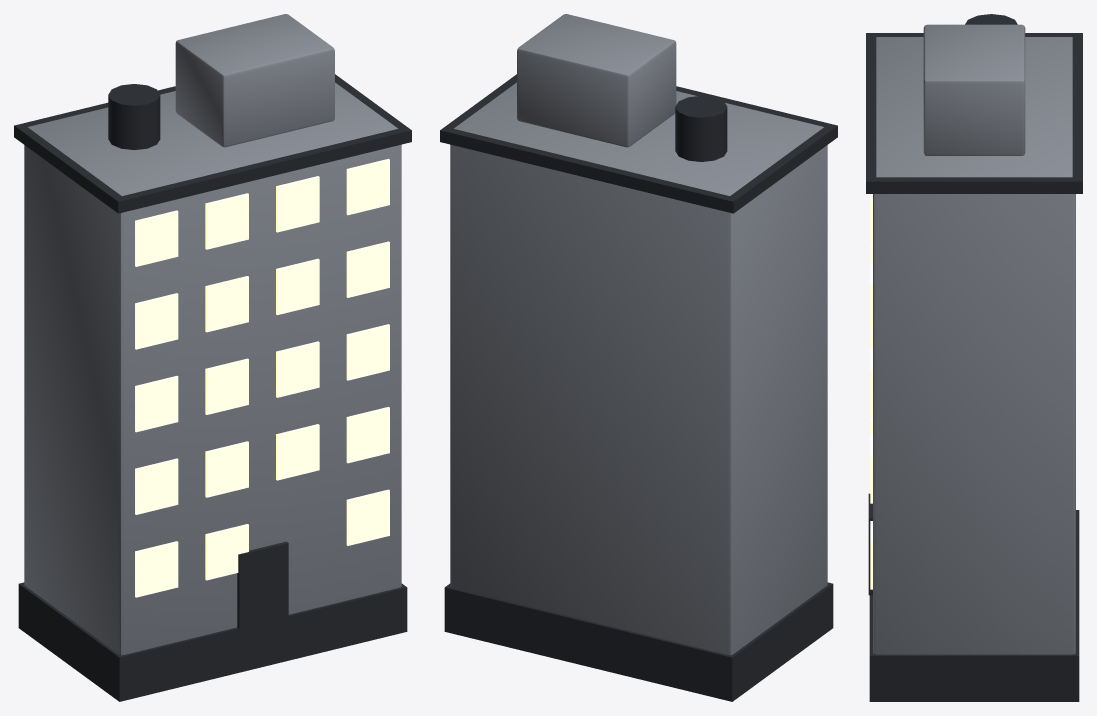
File: predio-20x34.glb
3 renders of one model, left to right at view 1: azimuth 30°, elevation 25°; view 2: azimuth 150°, elevation 25°; view 3: azimuth 270°, elevation 25°, orthographic. The views are drawn at different scales.
Parts seen in each view (by area): view 1: corpo, embasamento, casa-de-maquinas, cornija, porta, caixa-dagua, janela.013, janela.001, janela.002, janela.007, janela.008, janela.009 (+13 smaller); view 2: corpo, embasamento, casa-de-maquinas, cornija, caixa-dagua; view 3: corpo, casa-de-maquinas, embasamento, cornija, caixa-dagua, porta.
Part boxes in pixels (x1,y1,x2,y2): corpo: [24, 82, 401, 655]; embasamento: [18, 582, 407, 701]; casa-de-maquinas: [175, 14, 334, 147]; cornija: [14, 74, 411, 213]; porta: [237, 541, 288, 628]; caixa-dagua: [108, 84, 160, 150]; janela.013: [276, 258, 319, 315]; janela.001: [135, 541, 178, 597]; janela.002: [135, 458, 178, 514]; janela.007: [205, 441, 248, 497]; janela.008: [205, 358, 248, 414]; janela.009: [205, 276, 248, 332]; corpo: [450, 82, 827, 655]; embasamento: [444, 582, 833, 701]; casa-de-maquinas: [517, 14, 676, 147]; cornija: [440, 74, 837, 213]; caixa-dagua: [675, 95, 727, 161]; corpo: [873, 37, 1075, 654]; casa-de-maquinas: [923, 24, 1025, 155]; embasamento: [869, 510, 1079, 701]; cornija: [866, 33, 1082, 193]; caixa-dagua: [965, 14, 1017, 24]; porta: [868, 493, 872, 595].
Bounding box in the file's own units: 2.08 × 3.9 × 1.28.
